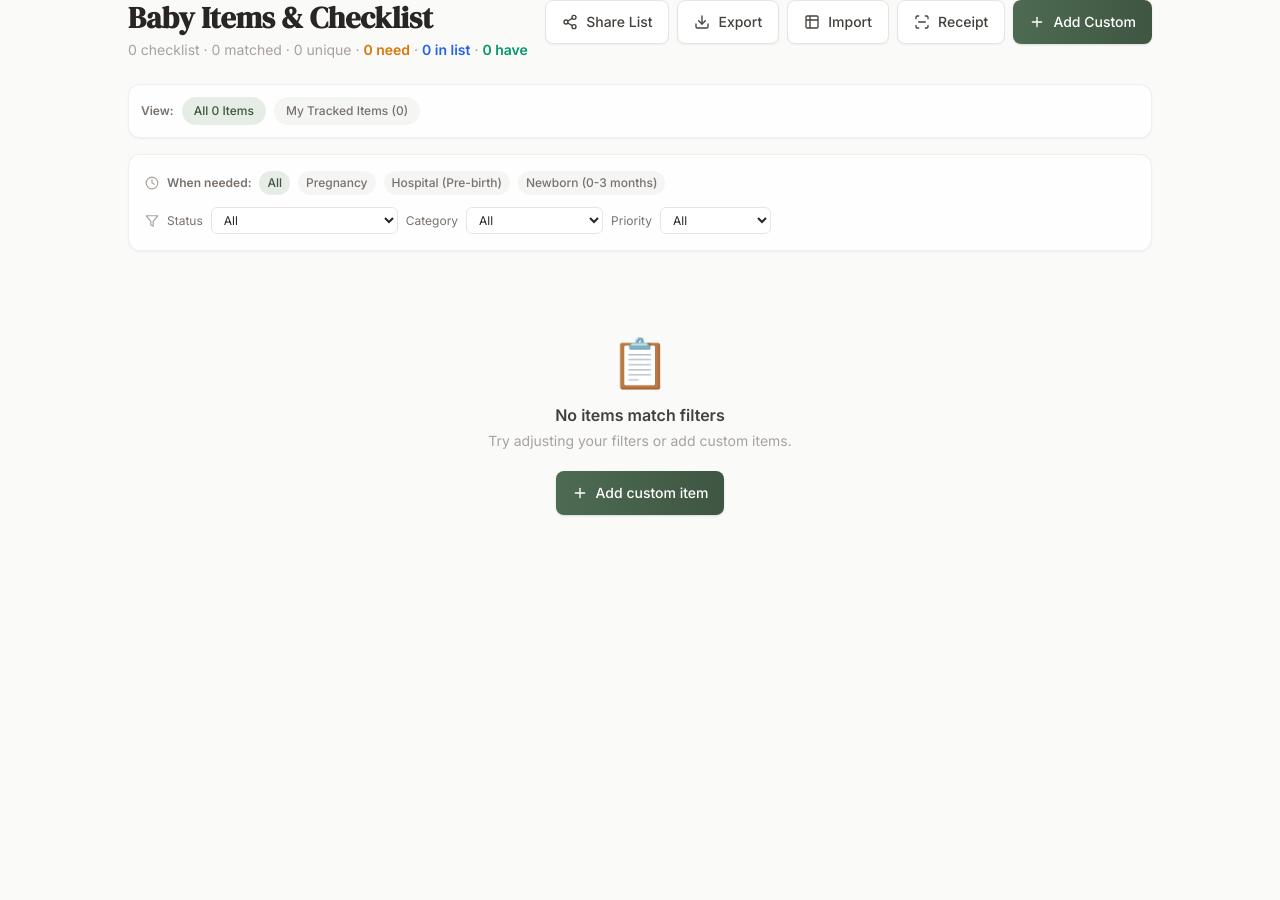
Test: ItemsPage › opens add modal when Add Custom button is clicked
Step 1. Click the button "Add Custom" → click(1083, 22), box top-left (1013, 0), bottom-right (1152, 44)
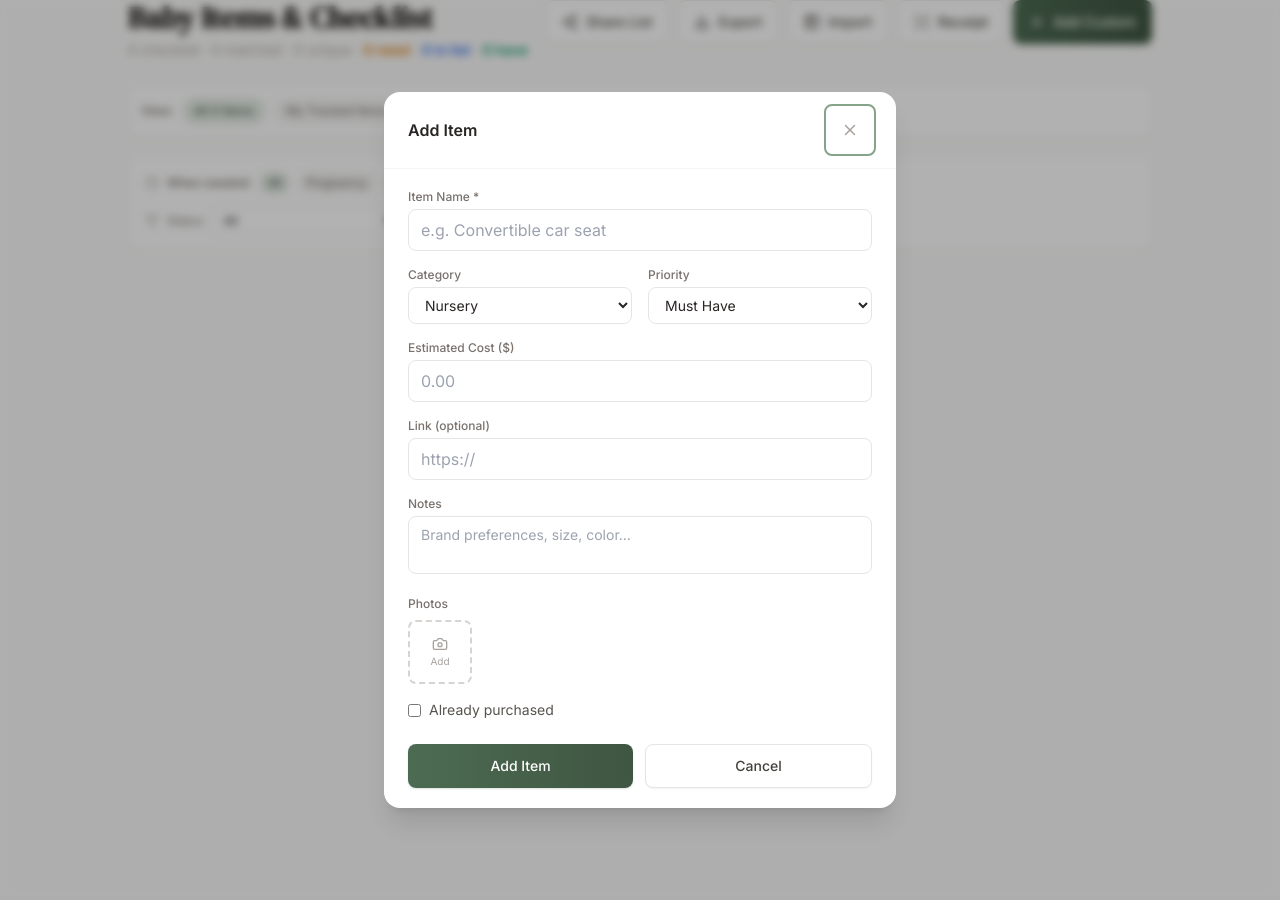
Expected: the heading "Add Item" is shown, top-left (408, 118), bottom-right (477, 142)
Expected: the field with placeholder "e.g. Convertible car seat" is shown, top-left (408, 209), bottom-right (872, 251)
